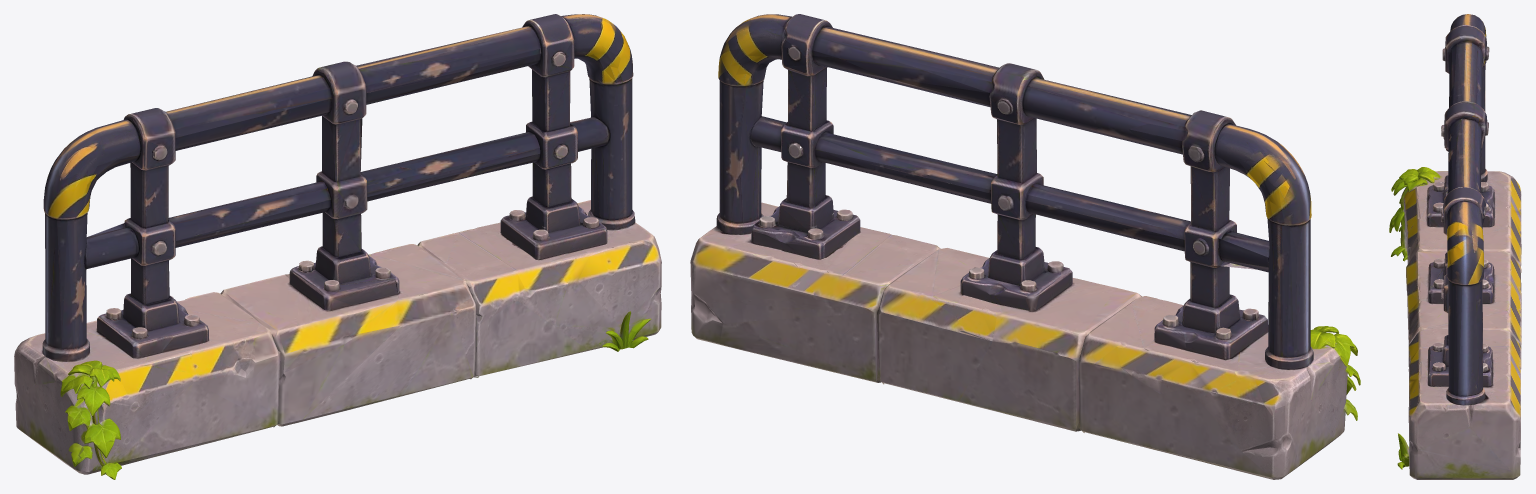
Rendered from railing_barrier.glb.
3 views of the same model, side by side, from view 1: azimuth 30°, elevation 25°; view 2: azimuth 150°, elevation 25°; view 3: azimuth 270°, elevation 25° (orthographic). The views are drawn at different scales.
Visible parts, largest first — view 1: output_unwrapped; view 2: output_unwrapped; view 3: output_unwrapped.
Part boxes in pixels (x1,y1,x2,y2): output_unwrapped: (14,14,661,479); output_unwrapped: (690,14,1360,479); output_unwrapped: (1389,14,1521,479).
Size of what is drawn, in the model's own units: 1.99 by 1 by 0.4638.
Materials: 1 (1 with a texture image).
